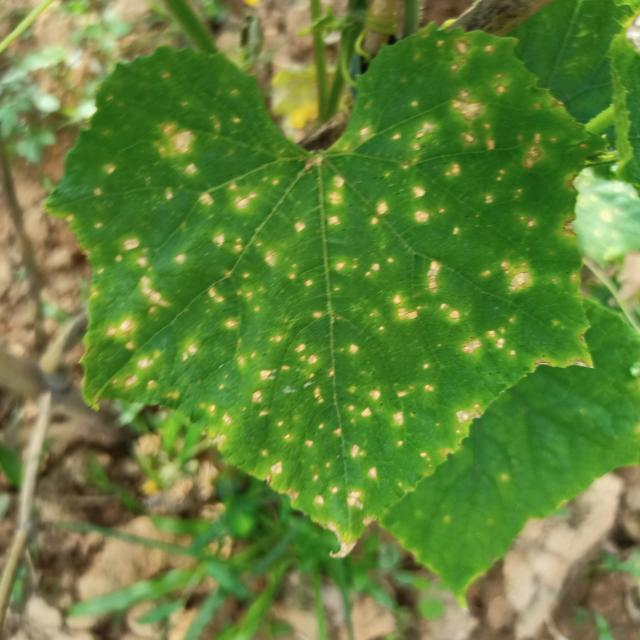disease_cucumber: (98, 248, 546, 522), (59, 72, 331, 346), (327, 32, 585, 298)
